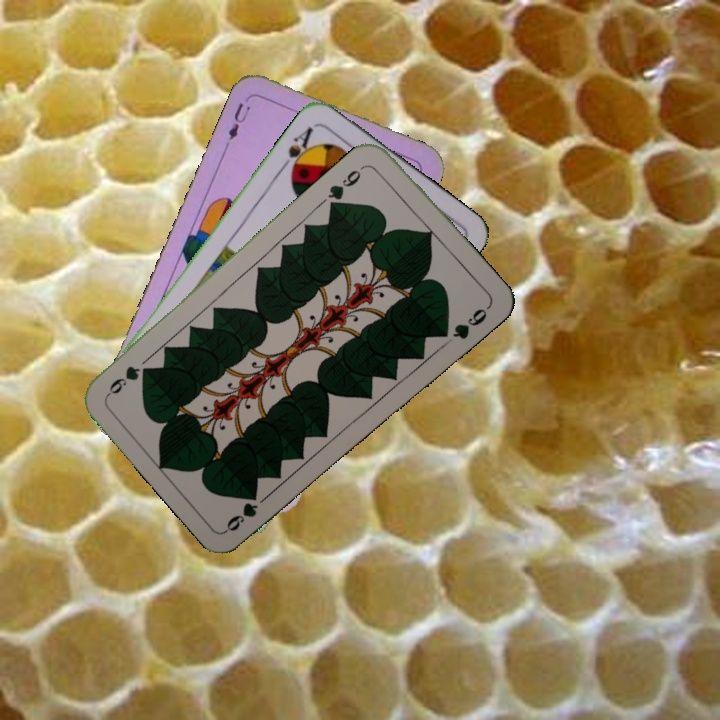EU: (223, 99, 253, 149)
G9: (324, 165, 364, 210), (222, 498, 261, 534)
SA: (277, 122, 318, 177)
